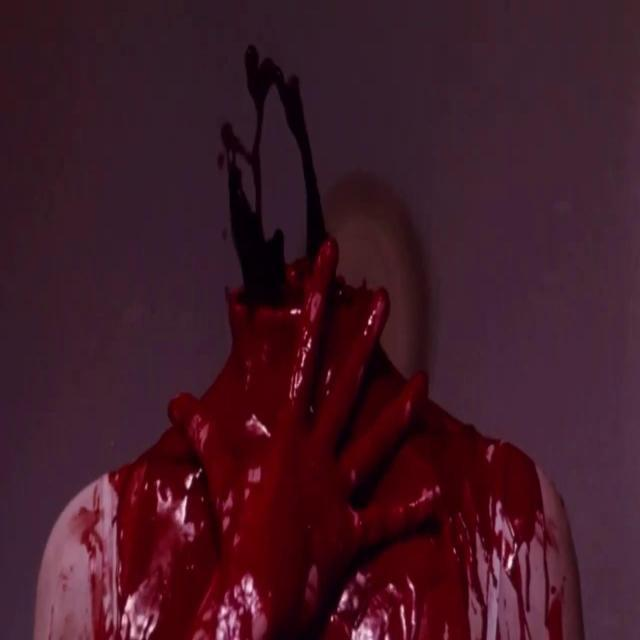flood: (96, 397, 545, 640), (222, 44, 382, 398)
